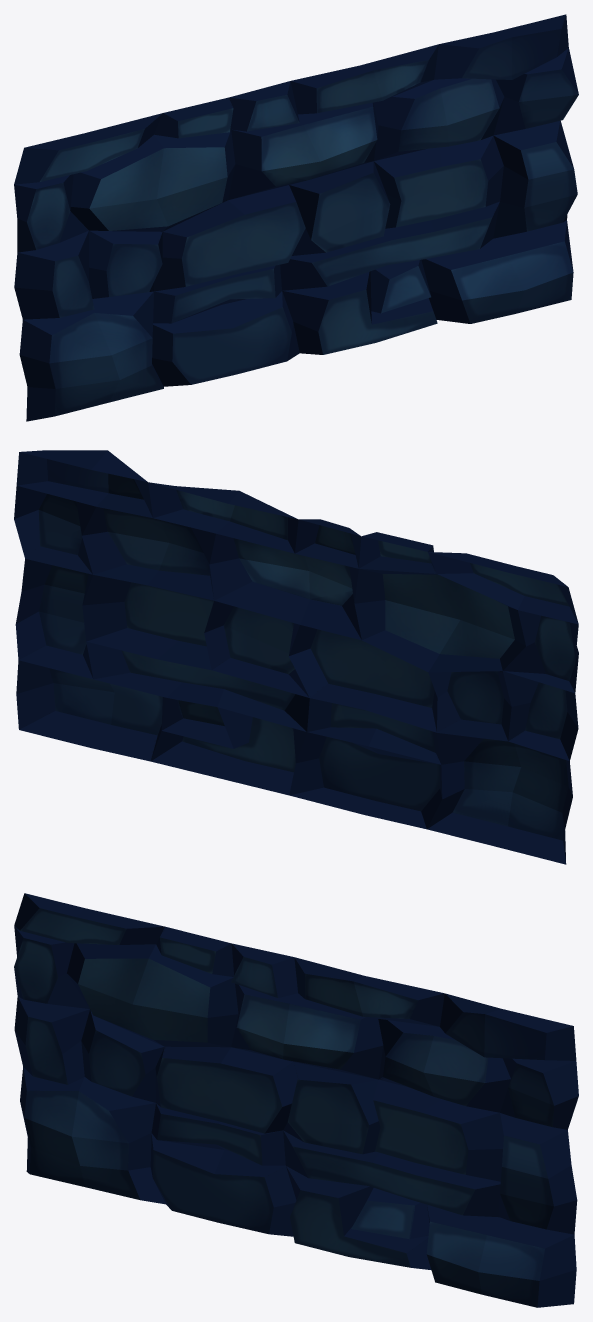
The model's file is Pared.fbx.
The picture shows the model from 3 angles, top to bottom: view 1: azimuth 30°, elevation 25°; view 2: azimuth 150°, elevation 25°; view 3: azimuth 330°, elevation 25°; orthographic projection.
Parts seen in each view (by area): view 1: Plane.001; view 2: Plane.001; view 3: Plane.001.
Boxes of the visible parts, x1=… form: Plane.001: x1=14, y1=14, x2=578, y2=421; Plane.001: x1=14, y1=450, x2=578, y2=864; Plane.001: x1=14, y1=893, x2=578, y2=1307.
Size of the model in its own units: 1337 by 647 by 110.
Materials: 1 (1 with a texture image).
